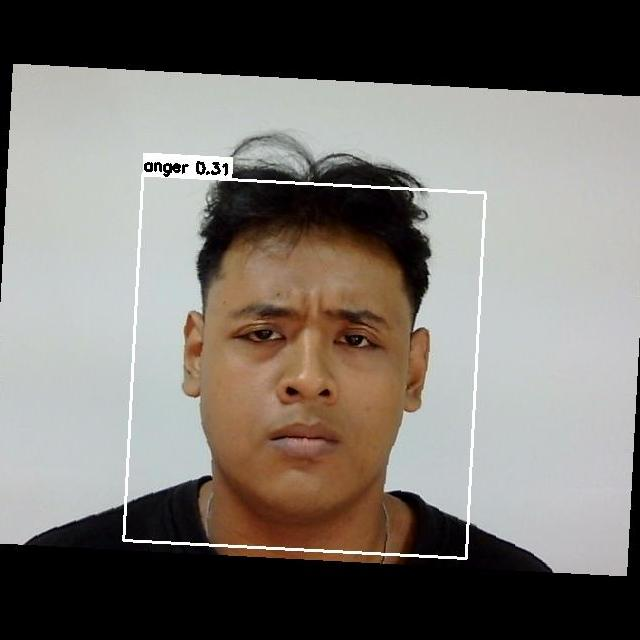Angry: (216, 279, 404, 475)
